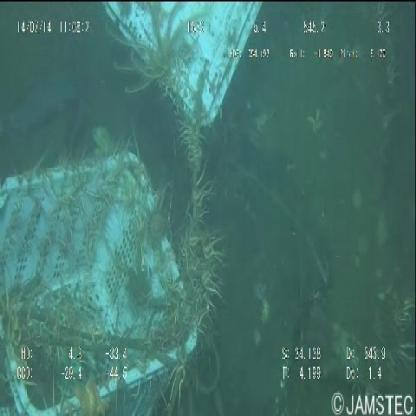Rác: (1, 1, 273, 414)
